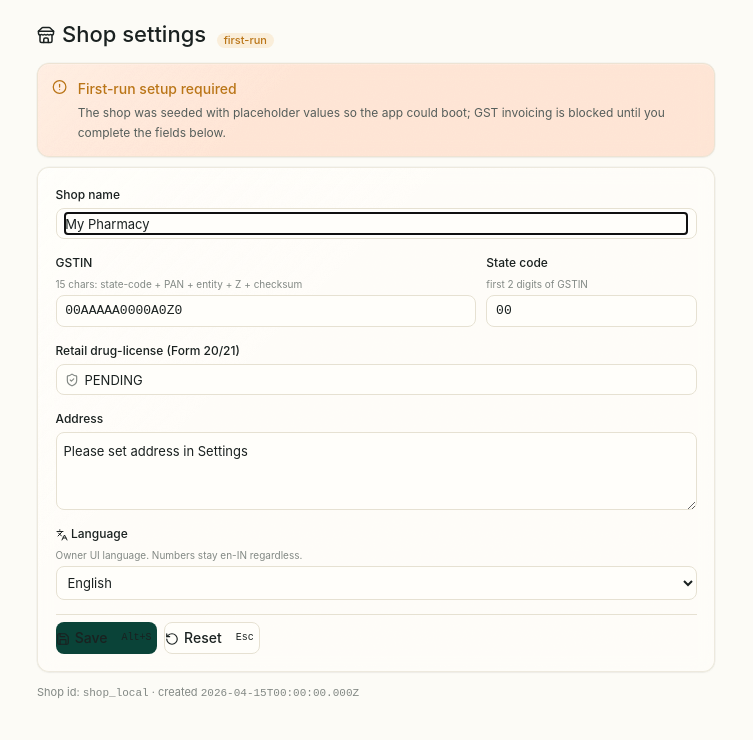
Test: SettingsScreen (F5b) › saves valid input and clears placeholder banner
The image size is (753, 740).
Replace the text in the field with test id "f-name" with "Vaidyanath Pharmacy" at (376, 224), box [65,214,687,235]
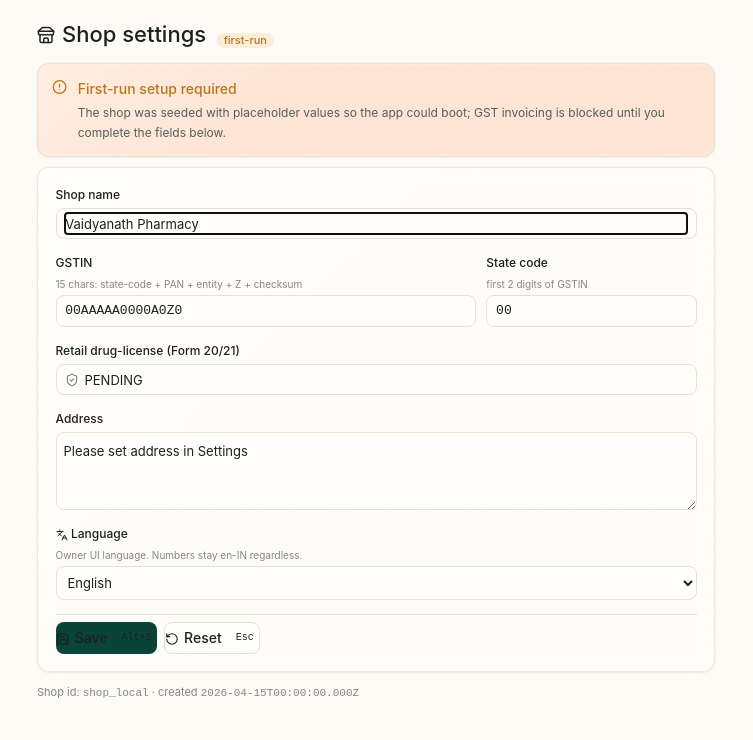
Replace the text in the field with test id "f-gstin" with "27ABCDE1234F1Z5" at (266, 312), box [65,302,466,322]
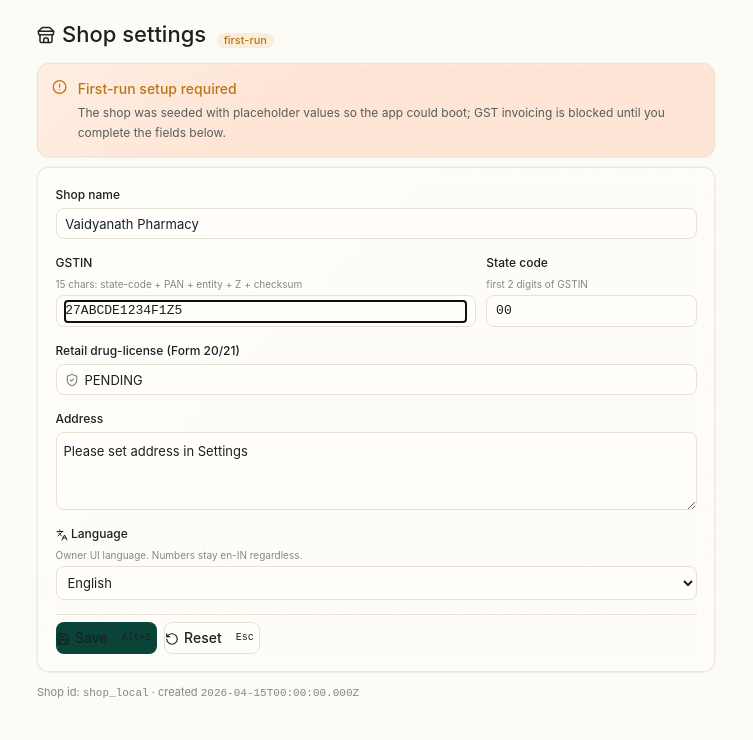
Replace the text in the field with test id "f-state" with "27" at (591, 312), box [496,302,687,322]
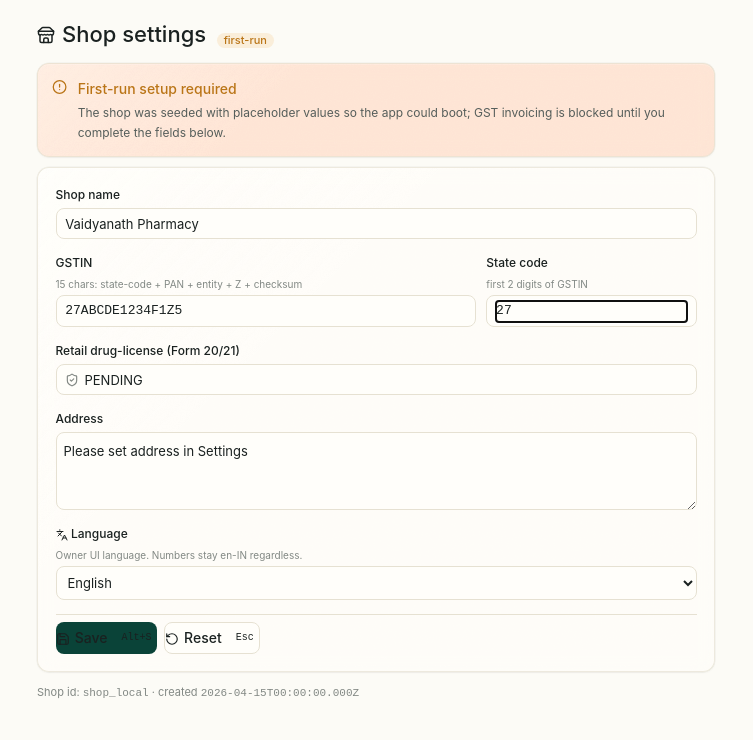
Replace the text in the field with test id "f-license" with "21B/MH/KL/999" at (386, 380), box [84,370,687,390]
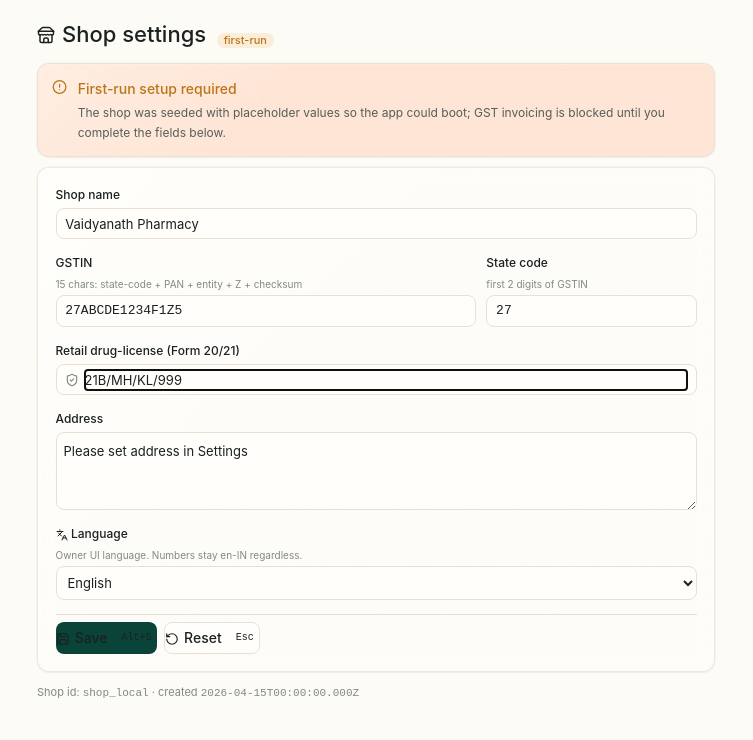
Replace the text in the text box with test id "f-address" with "1st Floor, Kalyan" at (376, 472), box [56,432,696,511]
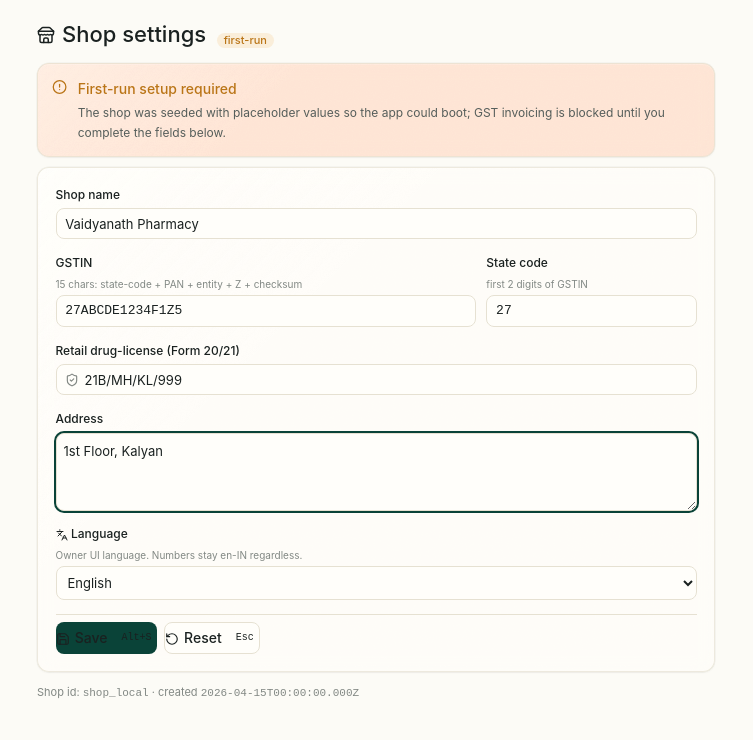
Click the button with test id "f-save" at (106, 639), box [56,623,157,655]
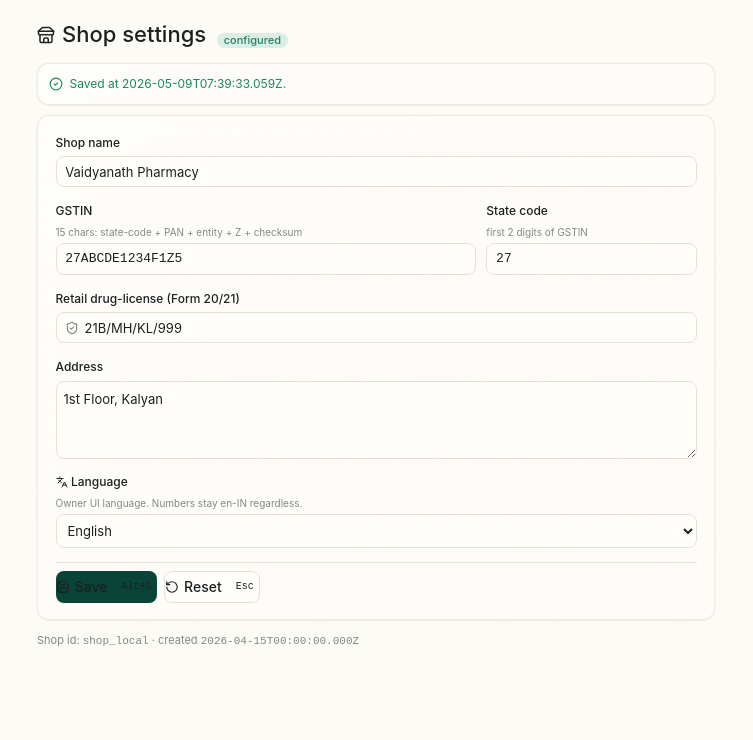
Check: the element with test id "placeholder-warn" is gone
Check: the element with test id "settings-saved" is shown, box [37,62,715,105]
